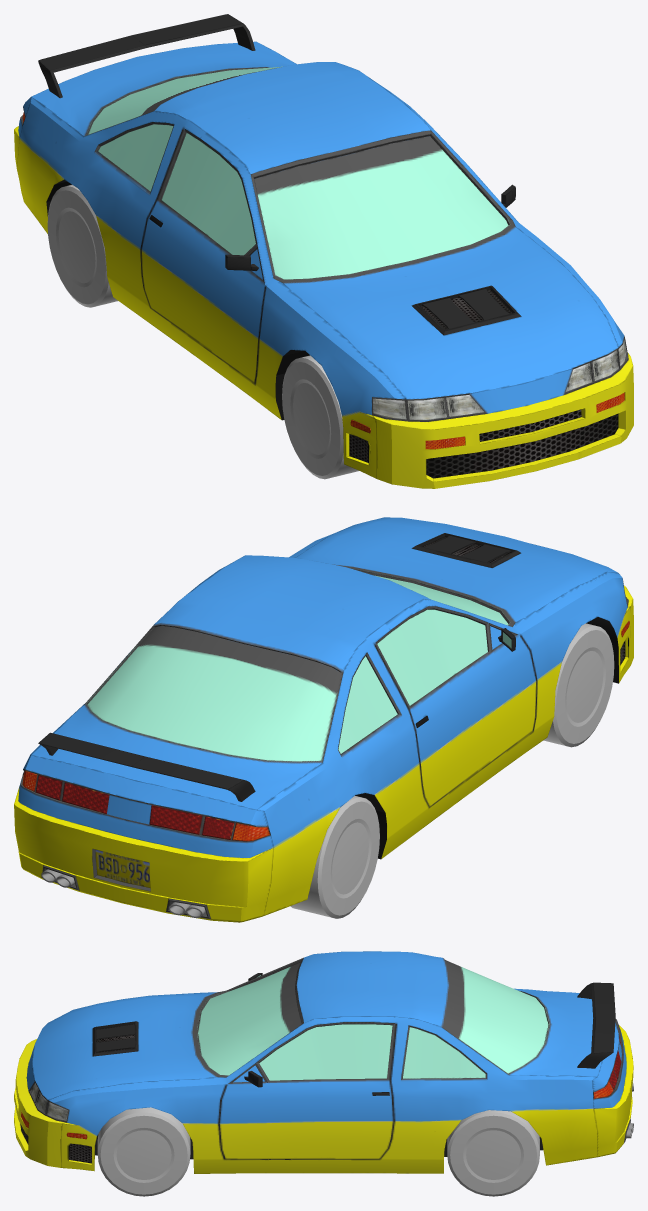
3 renders of one model, top to bottom at view 1: azimuth 30°, elevation 25°; view 2: azimuth 150°, elevation 25°; view 3: azimuth 270°, elevation 25°, orthographic. The views are drawn at different scales.
Visible parts, largest first — view 1: Body, FL, BL; view 2: Body, BL, FL; view 3: Body, FR, BR.
Part boxes in pixels (x1=…): Body: x1=14, y1=14, x2=633, y2=488; FL: x1=282, y1=355, x2=359, y2=479; BL: x1=47, y1=185, x2=117, y2=307; Body: x1=14, y1=517, x2=633, y2=922; BL: x1=290, y1=796, x2=379, y2=918; FL: x1=543, y1=623, x2=614, y2=747; Body: x1=14, y1=951, x2=633, y2=1173; FR: x1=97, y1=1107, x2=190, y2=1196; BR: x1=447, y1=1110, x2=539, y2=1196.
Size of the model in its own units: 242 by 180 by 605.
